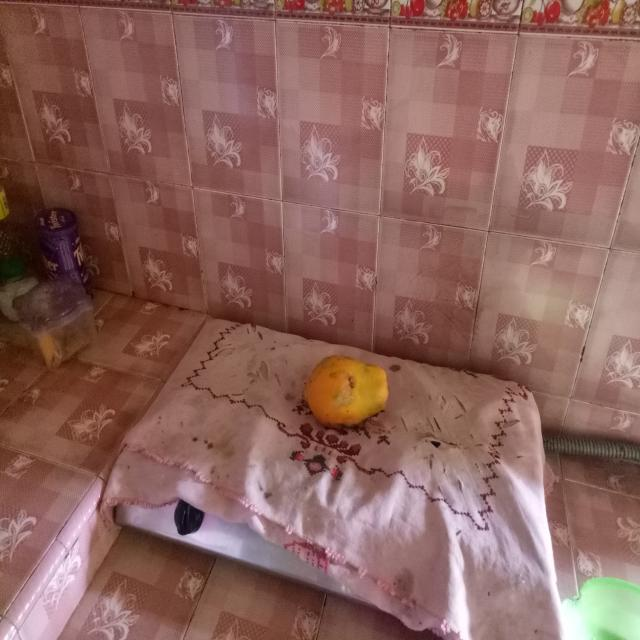Pepaya rippen: (300, 347, 390, 433)
